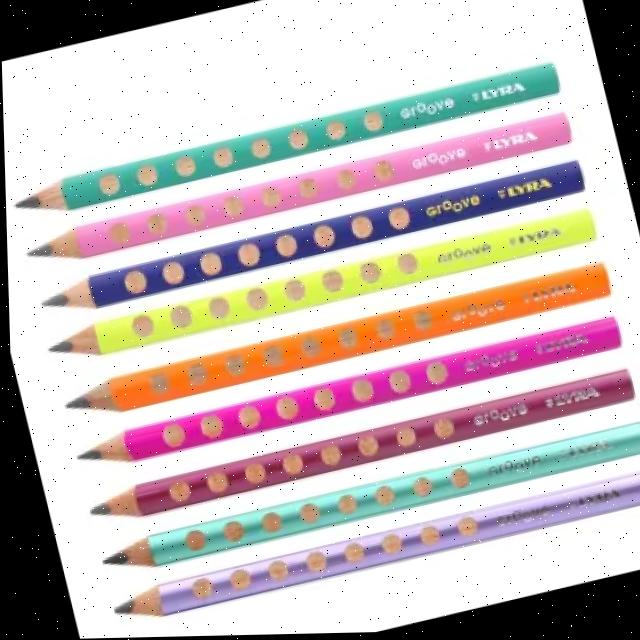pencil: (1, 45, 573, 231), (24, 201, 606, 377), (51, 258, 622, 432), (5, 109, 582, 280), (16, 156, 595, 325), (63, 312, 632, 480), (88, 417, 640, 589), (76, 366, 640, 534), (100, 467, 640, 634)
